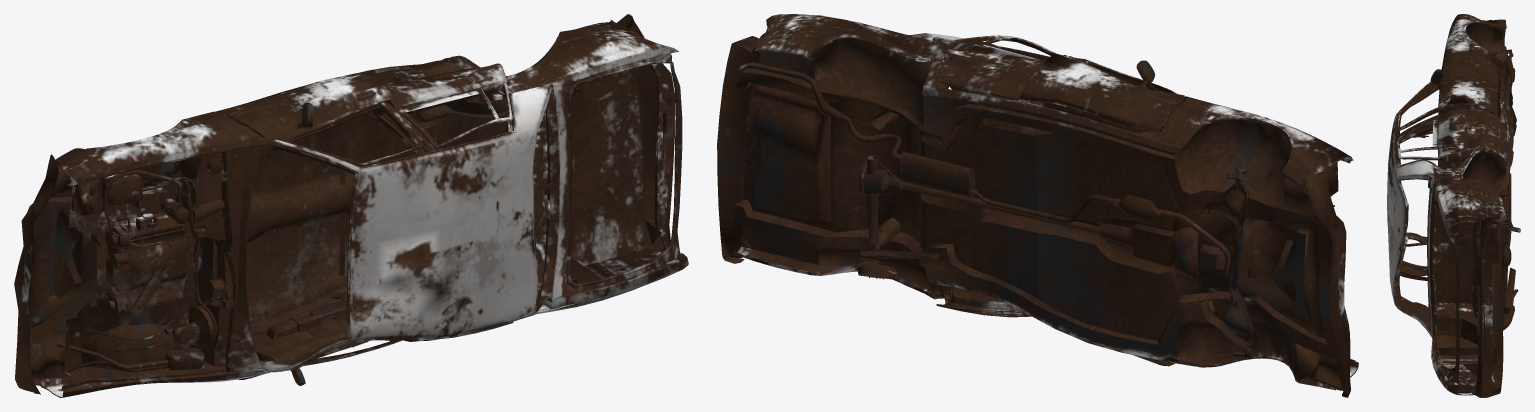
File: Car_A.obj
3 renders of one model, left to right at view 1: azimuth 30°, elevation 25°; view 2: azimuth 150°, elevation 25°; view 3: azimuth 270°, elevation 25°, orthographic. The views are drawn at different scales.
Parts seen in each view (by area): view 1: Object026_Material_#8770_0, Object026_Material_#9428_0, Object026_Material_#9537_0, Object026_Material_#9575_0, Object026_Material_#9077_0; view 2: Object026_Material_#9575_0, Object026_Material_#8770_0, Object026_Material_#9077_0, Object026_Material_#9428_0; view 3: Object026_Material_#8770_0, Object026_Material_#9428_0, Object026_Material_#9077_0, Object026_Material_#9575_0, Object026_Material_#9537_0.
Boxes of the visible parts, bbox=[...] form: Object026_Material_#8770_0: bbox=[29, 20, 688, 397]; Object026_Material_#9428_0: bbox=[233, 34, 661, 368]; Object026_Material_#9537_0: bbox=[56, 63, 670, 386]; Object026_Material_#9575_0: bbox=[14, 90, 543, 394]; Object026_Material_#9077_0: bbox=[71, 14, 678, 385]; Object026_Material_#9575_0: bbox=[734, 37, 1350, 397]; Object026_Material_#8770_0: bbox=[730, 14, 1358, 396]; Object026_Material_#9077_0: bbox=[717, 19, 1327, 358]; Object026_Material_#9428_0: bbox=[771, 21, 1154, 303]; Object026_Material_#8770_0: bbox=[1387, 14, 1510, 397]; Object026_Material_#9428_0: bbox=[1395, 72, 1500, 385]; Object026_Material_#9077_0: bbox=[1394, 29, 1520, 397]; Object026_Material_#9575_0: bbox=[1432, 19, 1516, 346]; Object026_Material_#9537_0: bbox=[1438, 87, 1497, 362].
Size of the model in its own units: 3.3 by 1.34 by 0.8238.
Materials: 5 (5 with a texture image).
